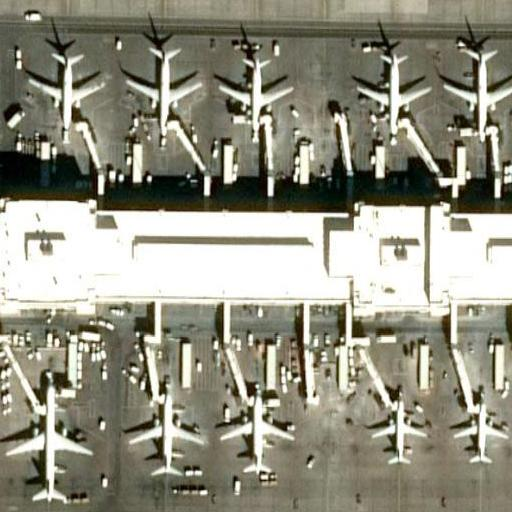Aircraft: (2, 381, 92, 503), (19, 42, 109, 140), (131, 386, 203, 492), (122, 41, 198, 137), (356, 42, 430, 140), (444, 40, 512, 144), (221, 391, 295, 482), (220, 47, 295, 135), (451, 402, 512, 472), (371, 402, 431, 466)
